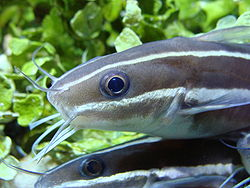gonzui: (34, 31, 250, 144)
